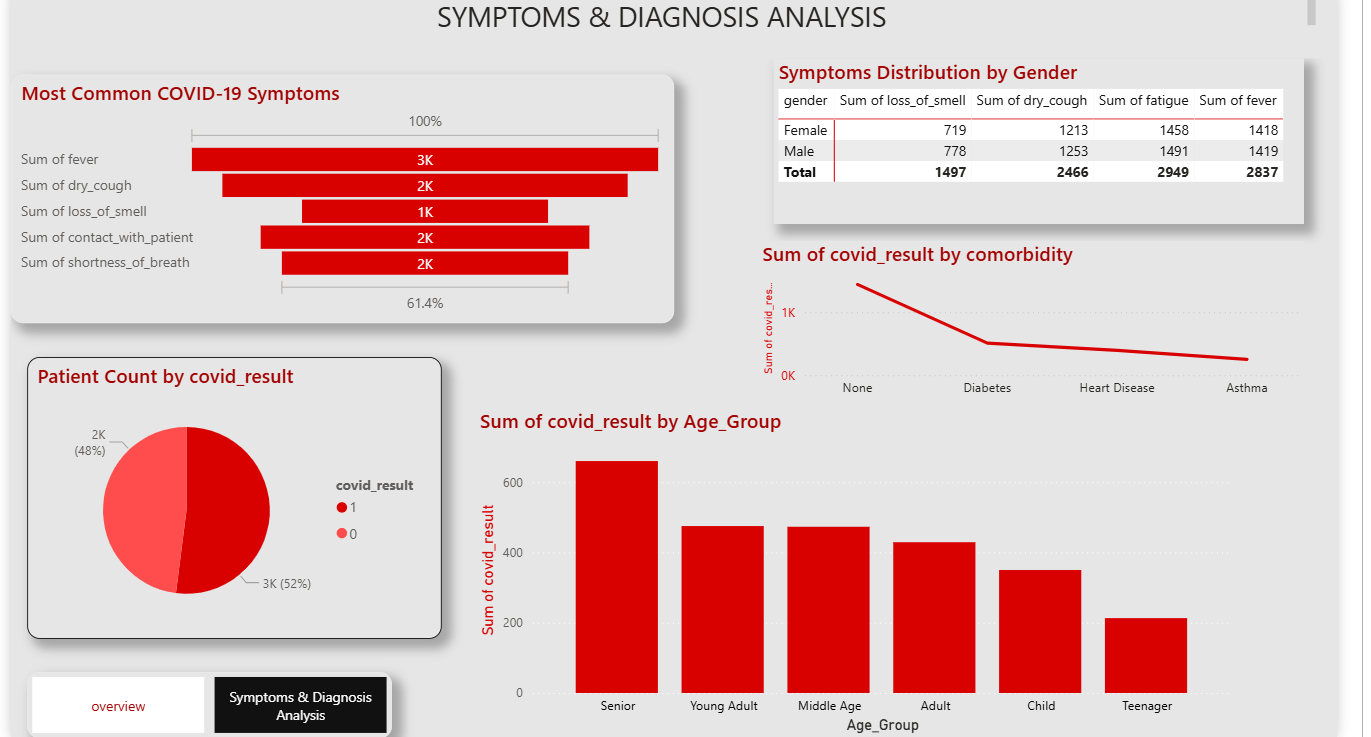

Layout of this report page (visuals, bound fields, positions):
{"tool":"powerbi","page":{"name":"Symptoms & Diagnosis Analysis","canvas":[1280,720],"ordinal":1},"visuals":[{"type":"pivotTable","title":"Symptoms Distribution by Gender","fields":{"Rows":["covid19_patient_symptoms_diagnosis.gender"],"Values":["Sum(covid19_patient_symptoms_diagnosis.loss_of_smell)","Sum(covid19_patient_symptoms_diagnosis.dry_cough)","Sum(covid19_patient_symptoms_diagnosis.fatigue)","Sum(covid19_patient_symptoms_diagnosis.fever)"]},"box":[736,64,512,160],"z":0},{"type":"pageNavigator","box":[16,656,352,64],"z":1000},{"type":"funnel","title":"Most Common COVID-19 Symptoms","fields":{"Y":["Sum(covid19_patient_symptoms_diagnosis.fever)","Sum(covid19_patient_symptoms_diagnosis.dry_cough)","Sum(covid19_patient_symptoms_diagnosis.loss_of_smell)","Sum(covid19_patient_symptoms_diagnosis.contact_with_patient)","Sum(covid19_patient_symptoms_diagnosis.shortness_of_breath)"]},"box":[0,80,640,240],"z":2000},{"type":"clusteredColumnChart","fields":{"Category":["covid19_patient_symptoms_diagnosis.Age_Group"],"Y":["Sum(covid19_patient_symptoms_diagnosis.covid_result)"]},"box":[448,400,736,320],"z":3000},{"type":"pieChart","fields":{"Y":["covid19_patient_symptoms_diagnosis.Patient Count"],"Category":["covid19_patient_symptoms_diagnosis.covid_result"]},"box":[16,352,400,272],"z":4000},{"type":"lineChart","fields":{"Category":["covid19_patient_symptoms_diagnosis.comorbidity"],"Y":["Sum(covid19_patient_symptoms_diagnosis.covid_result)"]},"box":[720,240,528,160],"z":5000},{"type":"textbox","box":[0,0,1264,64],"z":6000}]}

Visuals, with their boxes on the page's 1280x720 design canvas (x1, y1, x2, y2). These are canvas units, not pixel positions in the 1371x737 screenshot, which may show the page scaled, cropped or inside an application window:
"Symptoms Distribution by Gender" pivotTable: rect(736, 64, 1248, 224)
pageNavigator: rect(16, 656, 368, 720)
"Most Common COVID-19 Symptoms" funnel: rect(0, 80, 640, 320)
clusteredColumnChart - covid19_patient_symptoms_diagnosis.Age_Group x Sum(covid19_patient_symptoms_diagnosis.covid_result): rect(448, 400, 1184, 720)
pieChart - covid19_patient_symptoms_diagnosis.Patient Count x covid19_patient_symptoms_diagnosis.covid_result: rect(16, 352, 416, 624)
lineChart - covid19_patient_symptoms_diagnosis.comorbidity x Sum(covid19_patient_symptoms_diagnosis.covid_result): rect(720, 240, 1248, 400)
textbox: rect(0, 0, 1264, 64)
